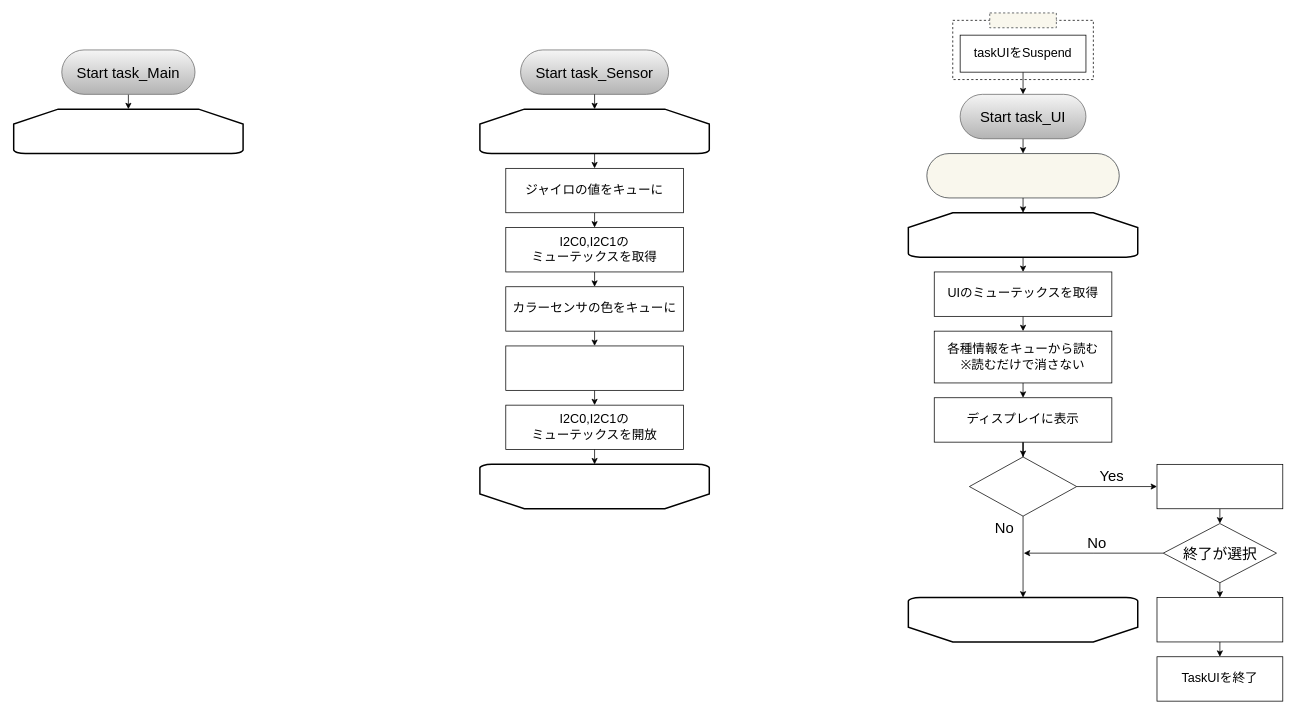
Some shapes in this 1296 by 714 pixel diagram are drawn without their labels. The shapes that lost their labels are listed below. From the top down, each one's box as (x1, y1, x2, y2) in pixels, then its label:
(989, 12, 1056, 28): Setup関数
(926, 153, 1119, 198): MainTaskに起こされる
(505, 345, 683, 390): 床ToFの結果をキューに
(969, 456, 1077, 516): LOP
(1156, 464, 1283, 509): LOPの警告画面
(1156, 597, 1283, 642): 終了をTaskMainに 伝える
